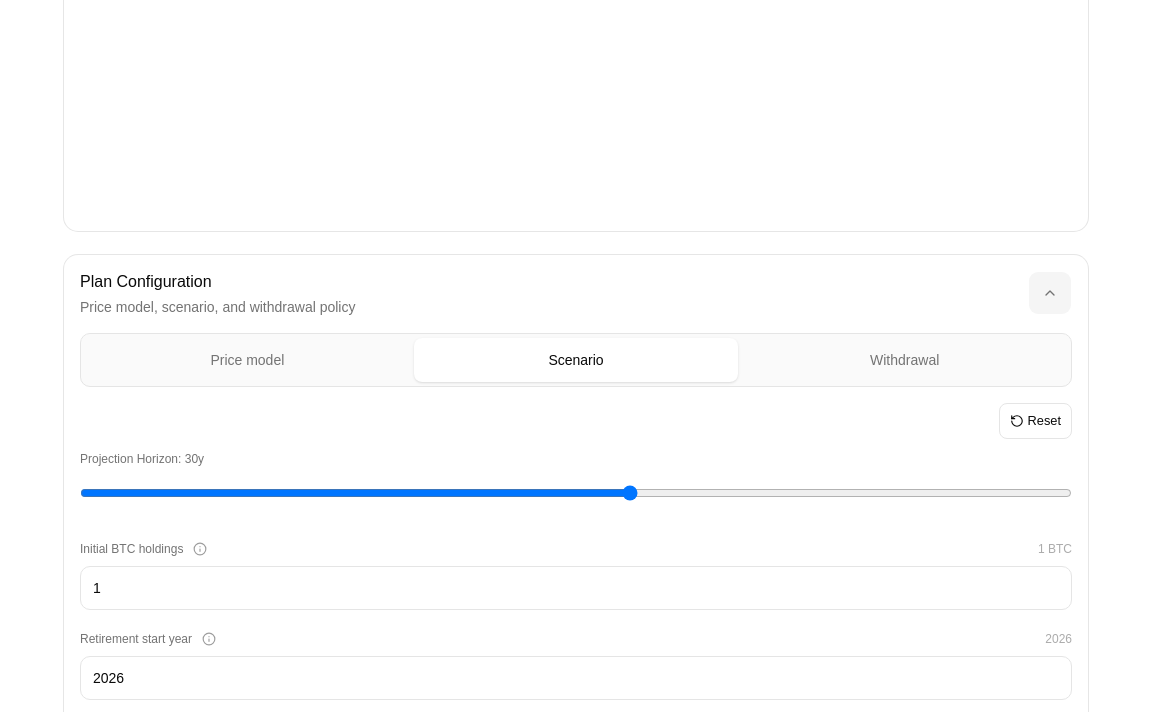
Test case: App › shows info buttons on model rows and expanded model controls
The image size is (1152, 712).
(page scrolled)
Click the tab "Price model". click: coordinates (247, 360)
box: top-left (85, 338), bottom-right (410, 382)
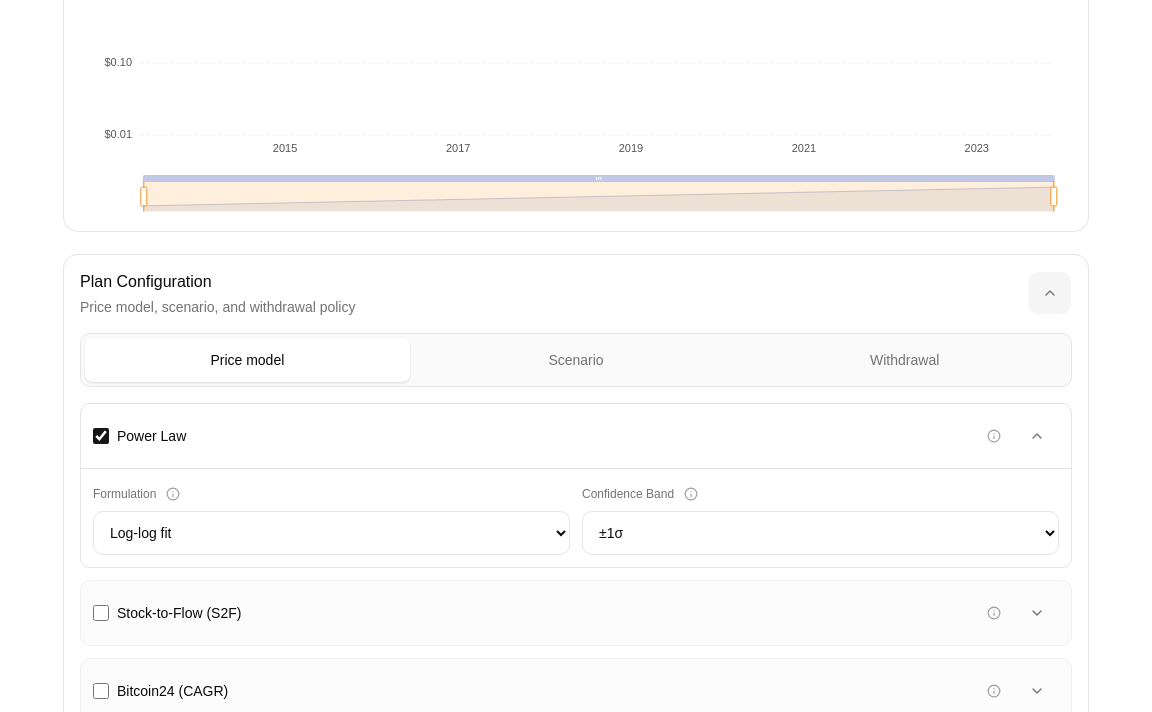
Result: the button named "About Power Law" is shown
Result: the button named "About Stock-to-Flow (S2F)" is shown at top-left (981, 600), bottom-right (1007, 626)
Result: the button named "About Bitcoin24 (CAGR)" is shown at top-left (981, 678), bottom-right (1007, 704)
Click the button named "About Power Law". click: coordinates (994, 436)
box: top-left (981, 423), bottom-right (1007, 449)
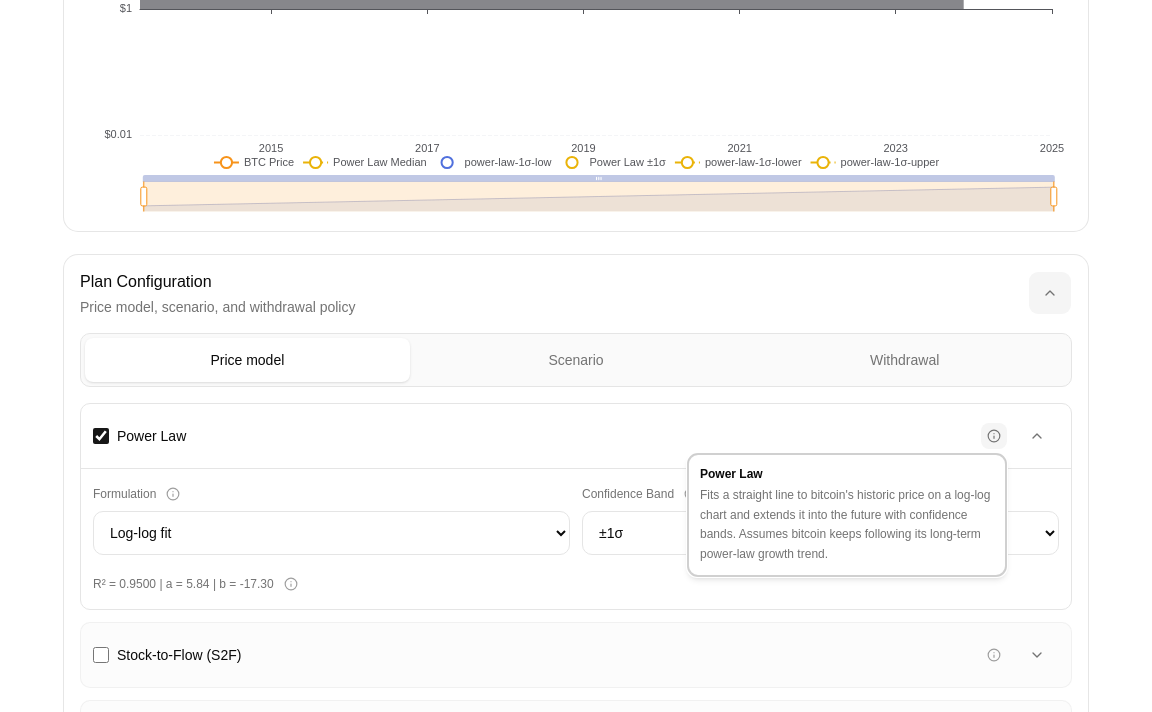
Result: the text "Fits a straight line" is shown at top-left (700, 488), bottom-right (990, 560)
